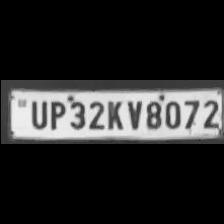0: (162, 97, 182, 128)
2: (198, 96, 220, 130), (86, 98, 104, 130)
3: (65, 98, 84, 130)
7: (180, 98, 198, 130)
8: (142, 98, 162, 130)
K: (104, 97, 124, 130)
P: (44, 98, 64, 130)
U: (26, 99, 46, 129)
V: (124, 97, 142, 130)
